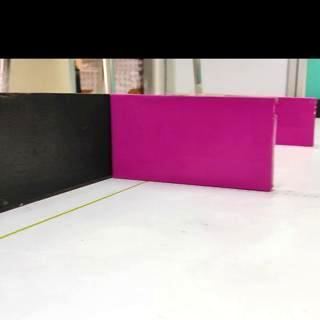xparking: (113, 96, 275, 190), (278, 98, 316, 146)
